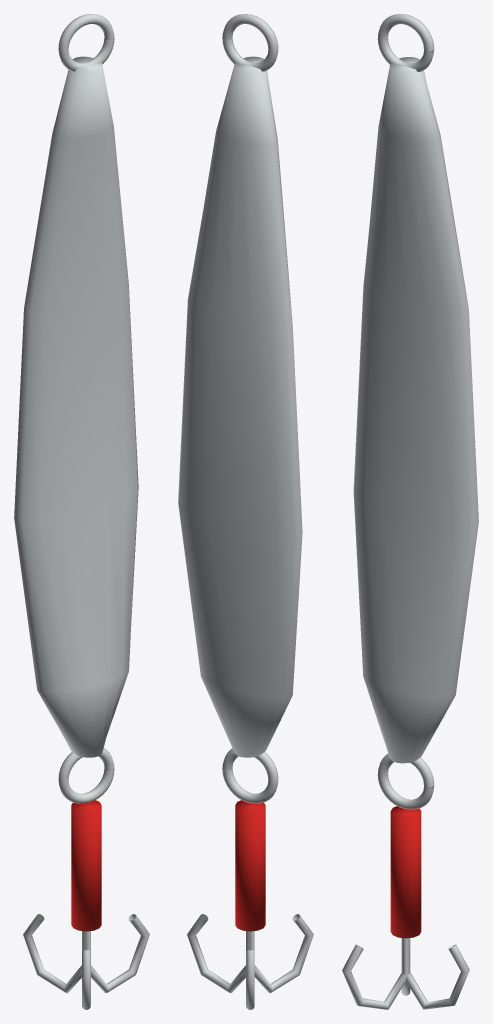
File: heavy_pilk.glb
3 renders of one model, left to right at view 1: azimuth 30°, elevation 25°; view 2: azimuth 150°, elevation 25°; view 3: azimuth 330°, elevation 25°, orthographic.
Parts seen in each view (by area): view 1: Chrome pilk, Sleeved treble shank, Split ring, Split ring.001, Treble hook 0, Treble hook 1, Treble hook 2; view 2: Chrome pilk, Sleeved treble shank, Split ring, Split ring.001, Treble hook 0, Treble hook 2, Treble hook 1; view 3: Chrome pilk, Sleeved treble shank, Split ring, Split ring.001, Treble hook 0, Treble hook 2.
Boxes of the visible parts, <box> form: Chrome pilk: <box>14,56,138,757</box>; Sleeved treble shank: <box>71,800,101,931</box>; Split ring: <box>58,14,114,71</box>; Split ring.001: <box>58,748,114,803</box>; Treble hook 0: <box>85,914,149,992</box>; Treble hook 1: <box>23,914,85,993</box>; Treble hook 2: <box>82,931,90,1009</box>; Chrome pilk: <box>178,56,302,757</box>; Sleeved treble shank: <box>235,800,265,931</box>; Split ring: <box>222,14,278,71</box>; Split ring.001: <box>222,748,278,803</box>; Treble hook 0: <box>187,914,250,993</box>; Treble hook 2: <box>250,914,313,993</box>; Treble hook 1: <box>246,931,254,1009</box>; Chrome pilk: <box>353,57,478,763</box>; Sleeved treble shank: <box>390,806,421,938</box>; Split ring: <box>377,14,434,71</box>; Split ring.001: <box>377,754,434,809</box>; Treble hook 0: <box>402,938,469,1009</box>; Treble hook 2: <box>342,938,409,1009</box>.
Size of the model in its own units: 0.0382 by 0.2866 by 0.0335.
